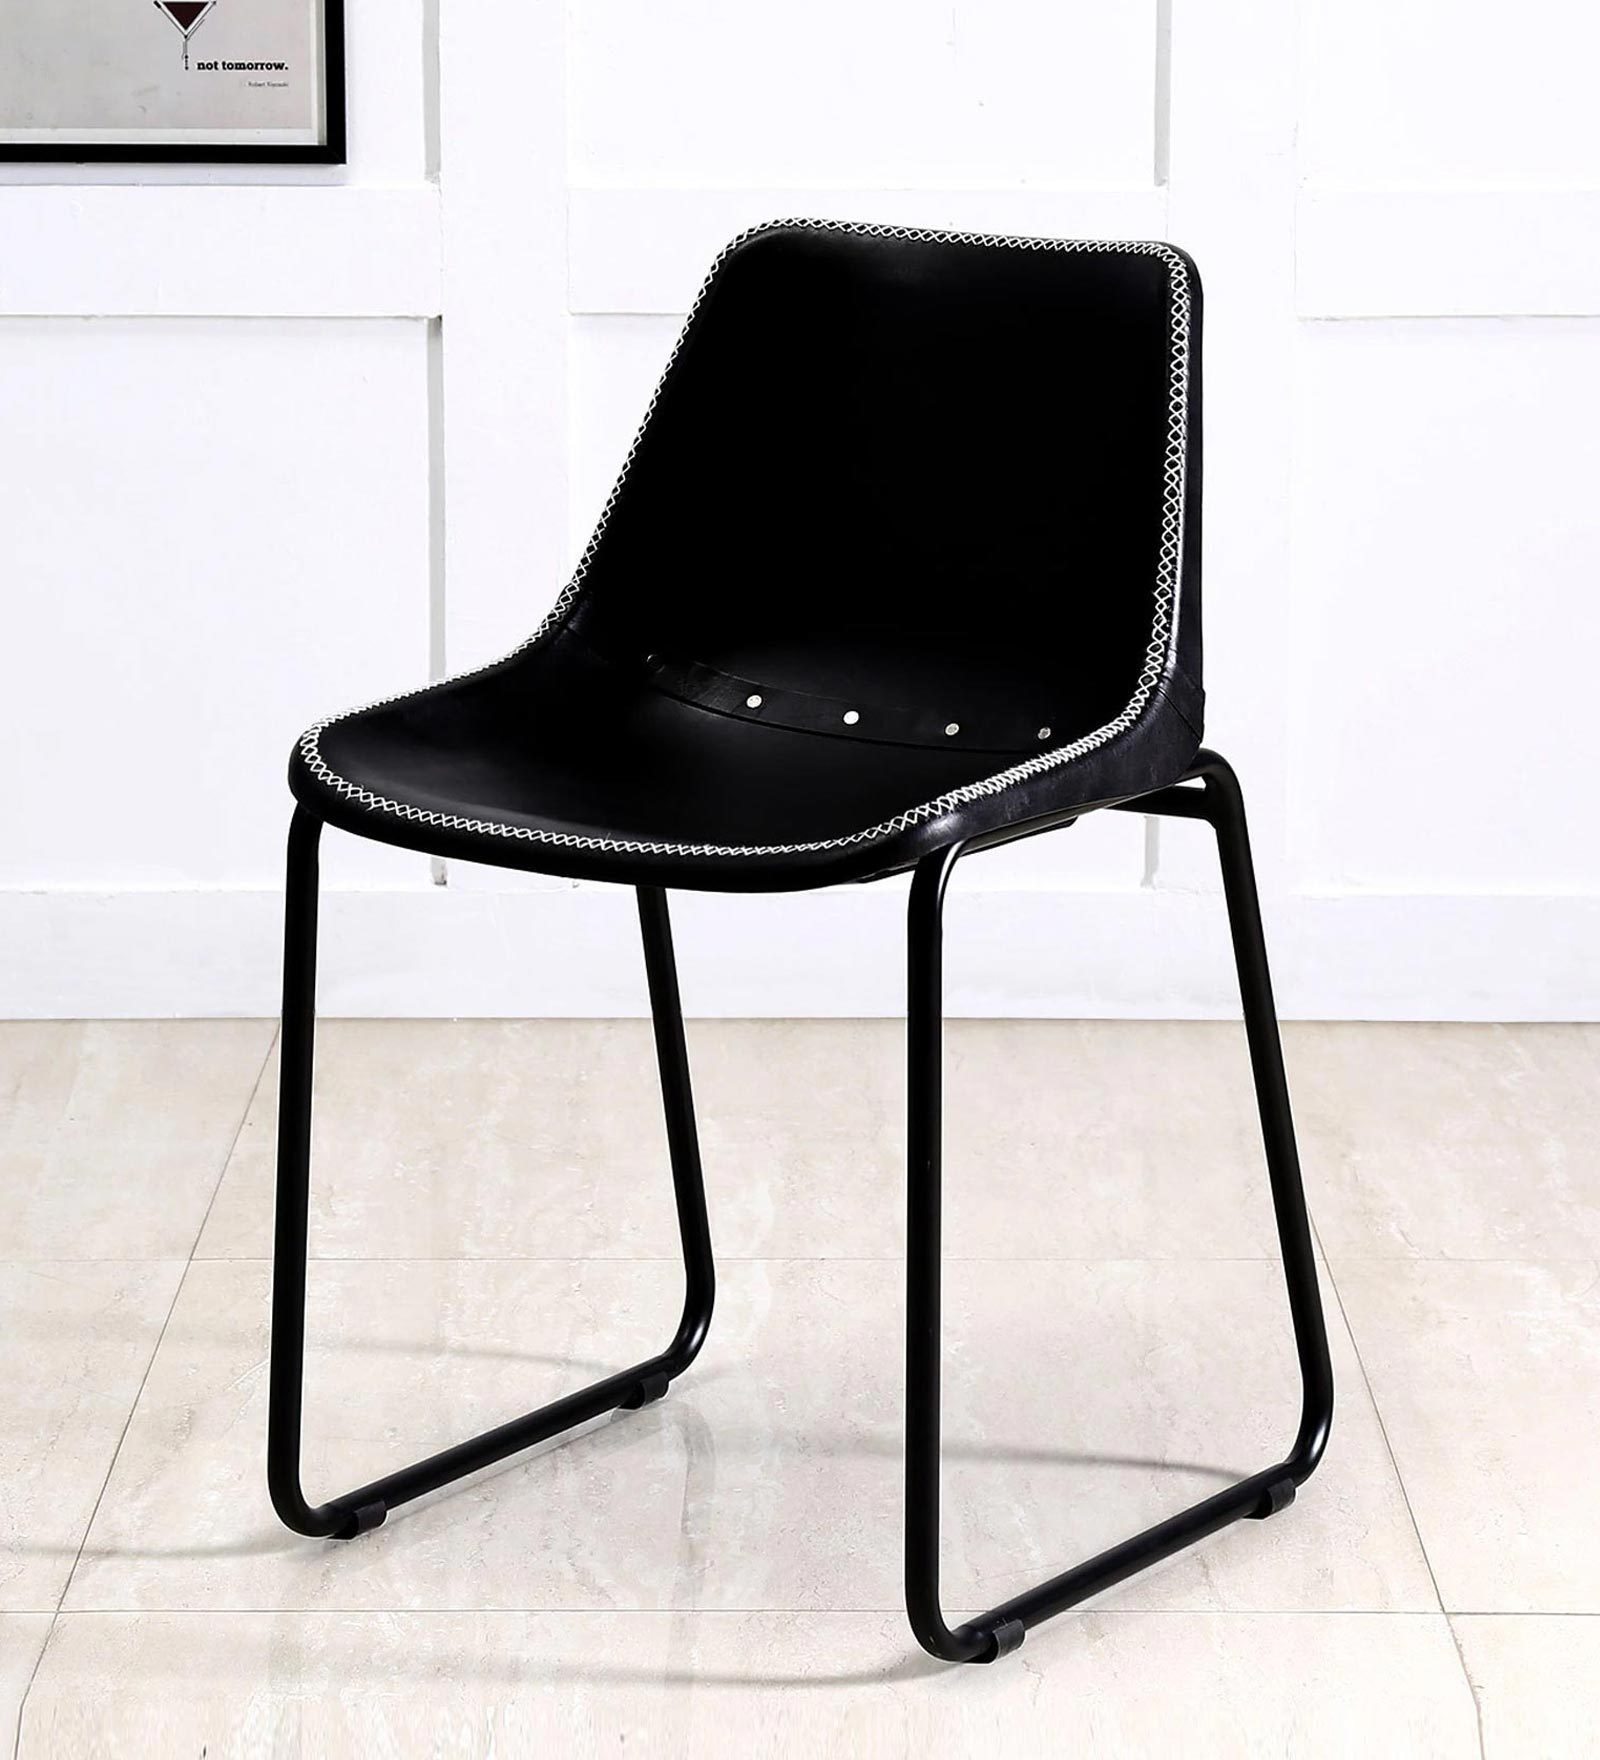Medina Black Color Leather Accent Chair by Bohemiana: (261, 215, 1352, 1656)
